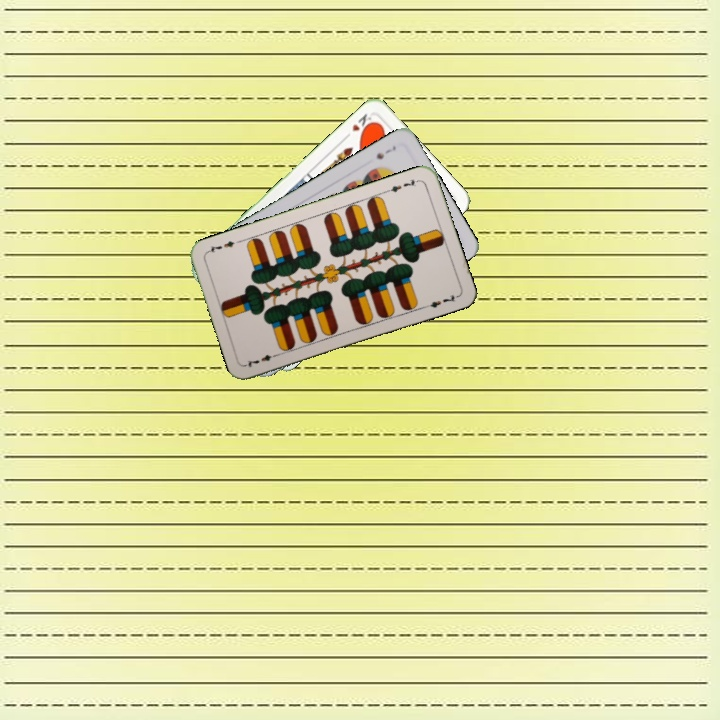E7: (382, 175, 422, 195), (242, 350, 282, 370)
HK: (340, 109, 377, 142)
S7: (372, 142, 399, 162)
